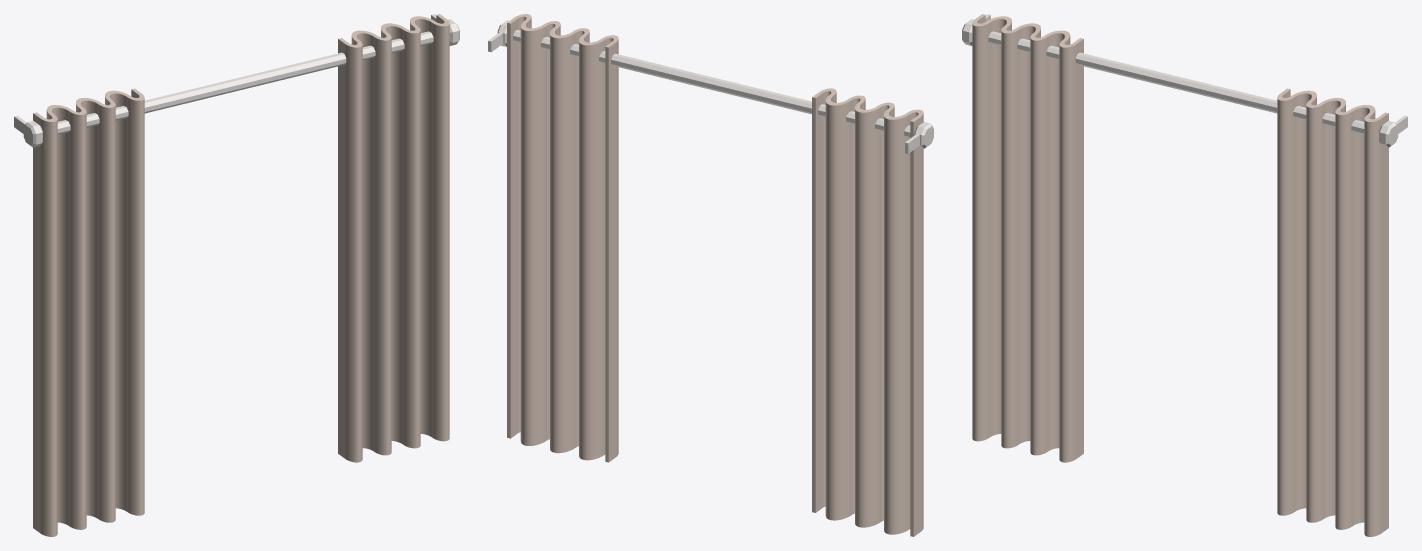
The model's file is Prop_Curtains_Double.fbx.
The picture shows the model from 3 angles, left to right: view 1: azimuth 30°, elevation 25°; view 2: azimuth 150°, elevation 25°; view 3: azimuth 330°, elevation 25°; orthographic projection.
Visible parts, largest first — view 1: object2.010, object3.008, object1.013; view 2: object2.010, object3.008, object1.013; view 3: object3.008, object2.010, object1.013.
Part boxes in pixels (<box>): object2.010: <box>338,14,449,462</box>; object3.008: <box>33,88,144,536</box>; object1.013: <box>14,14,459,147</box>; object2.010: <box>507,14,618,462</box>; object3.008: <box>812,88,923,536</box>; object1.013: <box>488,20,933,153</box>; object3.008: <box>972,14,1083,462</box>; object2.010: <box>1277,88,1388,536</box>; object1.013: <box>962,14,1407,147</box>.
Size of the model in its own units: 210 by 195 by 22.5.
